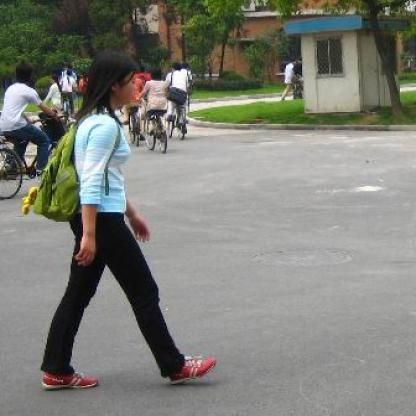person: (16, 48, 228, 390)
